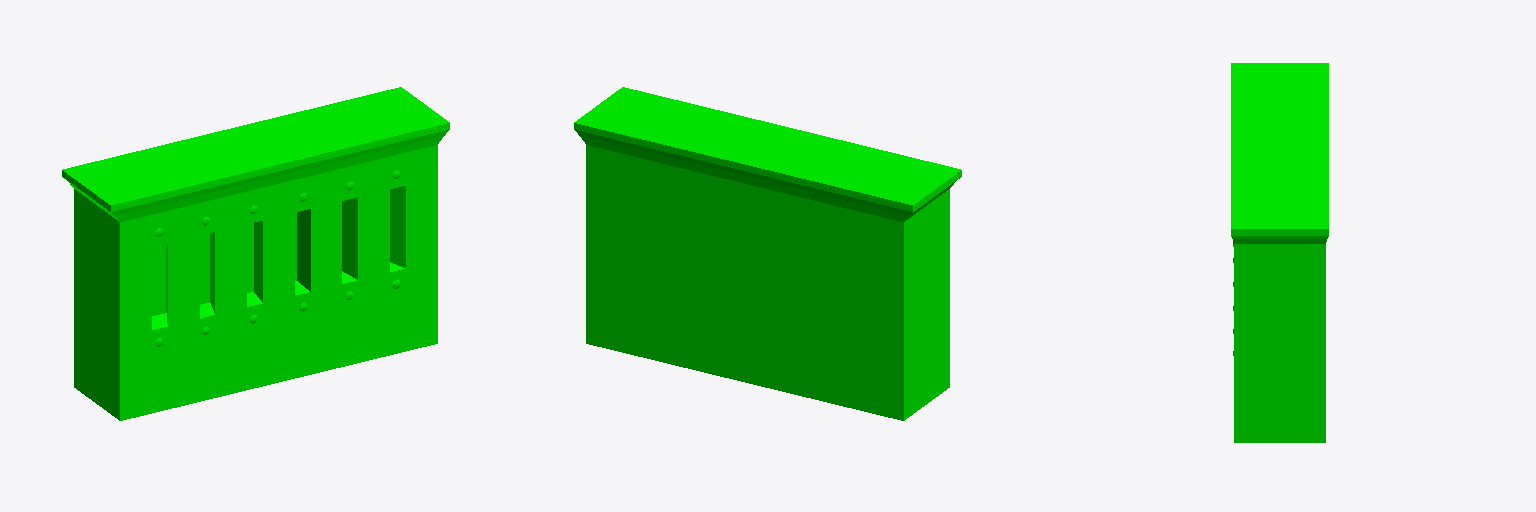
Rendered from wall_green.obj.
The picture shows the model from 3 angles: view 1: azimuth 30°, elevation 25°; view 2: azimuth 150°, elevation 25°; view 3: azimuth 270°, elevation 25°; orthographic projection.
Bounding box in the file's own units: 8.56 × 5.29 × 2.14.